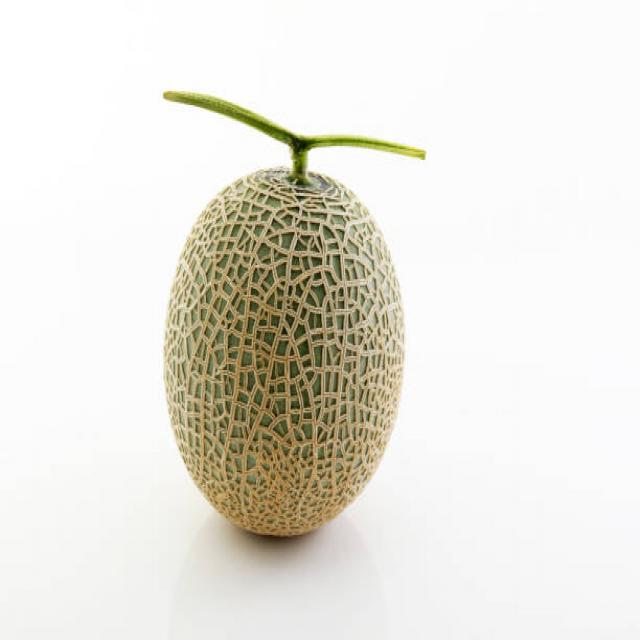Melon: (155, 154, 410, 540)
